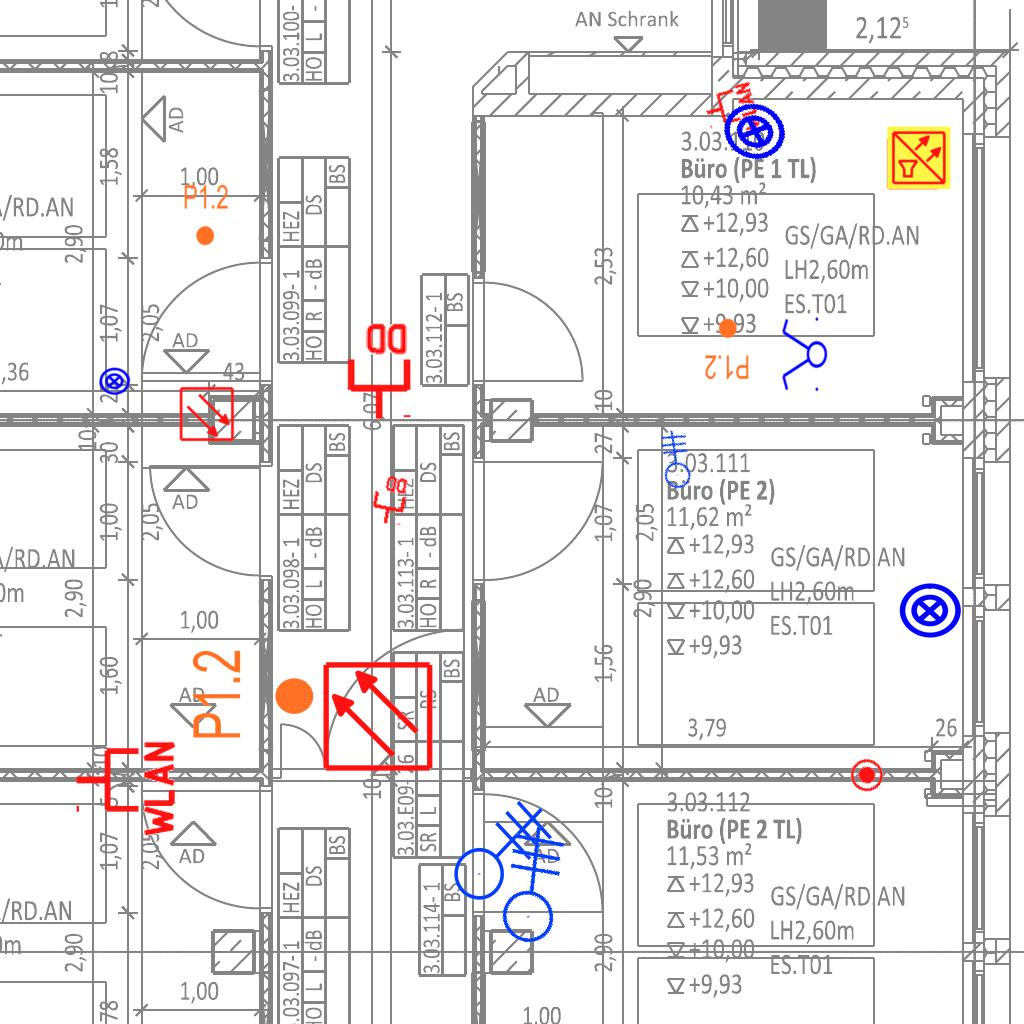Datenanschluss_zweifach: (343, 319, 412, 422), (367, 471, 411, 528)
Downlight_LED_Einbauleuchten_Flur: (189, 648, 317, 741), (183, 183, 229, 247), (704, 317, 750, 381)
Elektroanschluss_allgemein_400V_Geraeteanschlussdose_400V: (442, 803, 604, 964), (437, 788, 553, 901), (631, 419, 711, 501)
OKW_Multisensormelder_(Kombination_optischer_Rauch-Kahlenmonoxid_Waerme-Melder): (886, 125, 952, 191)
RMO_Rauchmelder_optischer: (321, 660, 434, 773), (179, 386, 235, 442)
Serienschalter: (780, 313, 828, 397)
Taster: (843, 751, 890, 798)
Taster_beleuchtet: (712, 88, 798, 174), (897, 578, 963, 644), (97, 364, 132, 399)
WLAN: (72, 737, 177, 841), (699, 79, 763, 143)
